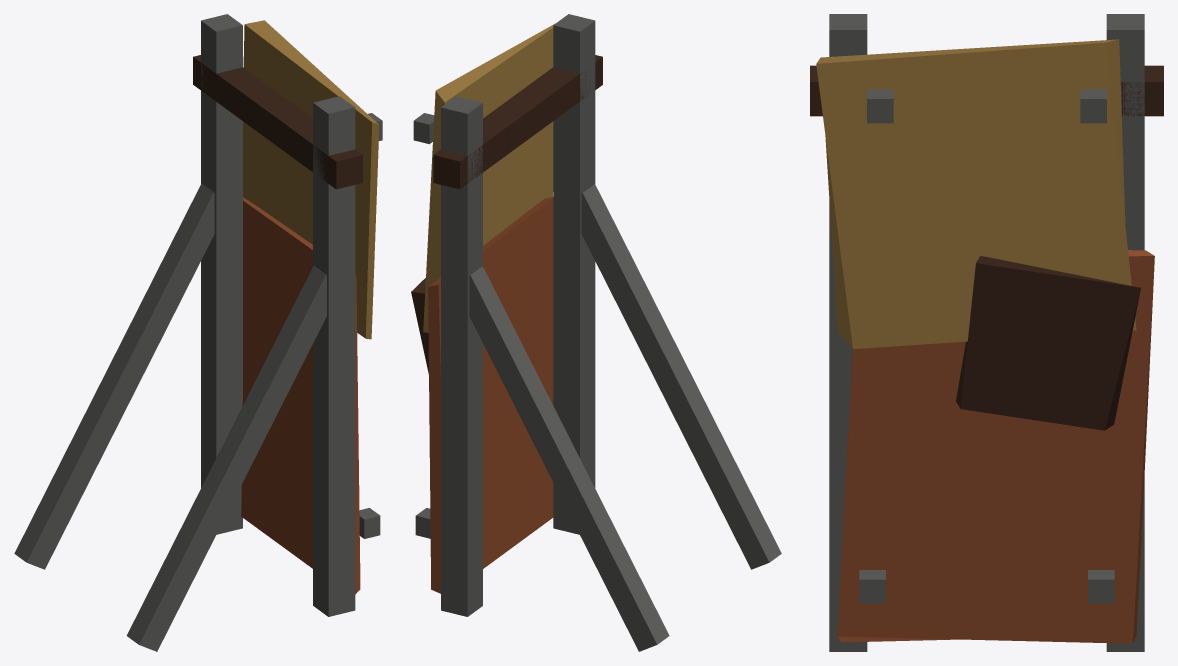
Rendered from arm_scrap_sheet.glb.
3 renders of one model, left to right at view 1: azimuth 30°, elevation 25°; view 2: azimuth 150°, elevation 25°; view 3: azimuth 270°, elevation 25°, orthographic. The views are drawn at different scales.
Visible parts, largest first — view 1: arm_scrap_sheet; view 2: arm_scrap_sheet; view 3: arm_scrap_sheet.
Part boxes in pixels (bbox=[...]): arm_scrap_sheet: bbox=[14, 14, 382, 651]; arm_scrap_sheet: bbox=[411, 14, 781, 651]; arm_scrap_sheet: bbox=[810, 14, 1163, 651].
Size of the model in its own units: 0.4821 by 0.9003 by 0.464.
